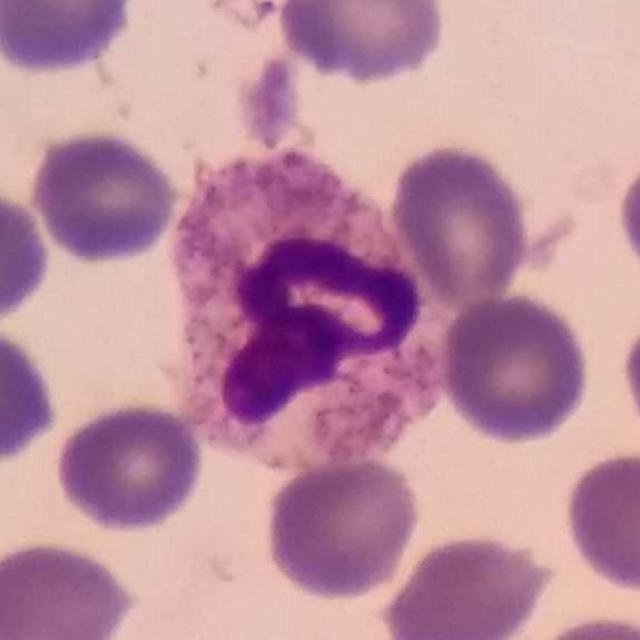Neutrophil: (176, 148, 468, 474)
RBC: (436, 290, 594, 448), (386, 139, 533, 307), (259, 453, 424, 602), (26, 126, 182, 267), (51, 398, 208, 536), (377, 528, 556, 640), (272, 0, 450, 87), (0, 536, 141, 639), (560, 447, 640, 598), (0, 0, 140, 79), (0, 321, 63, 470), (0, 182, 56, 330), (520, 610, 640, 640), (616, 311, 640, 439), (619, 144, 640, 266)
